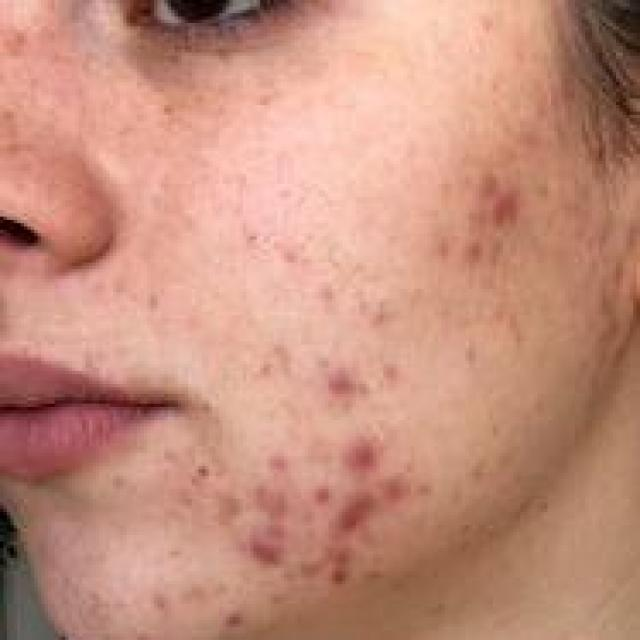blackheads: (472, 164, 530, 233), (250, 450, 301, 512), (246, 519, 288, 571), (312, 542, 359, 584), (332, 492, 380, 532), (322, 361, 362, 404), (342, 433, 380, 476), (267, 236, 294, 266), (383, 472, 404, 499), (366, 302, 387, 328), (222, 607, 243, 624), (315, 282, 328, 309), (435, 233, 448, 259), (192, 460, 208, 479), (144, 292, 157, 315)
